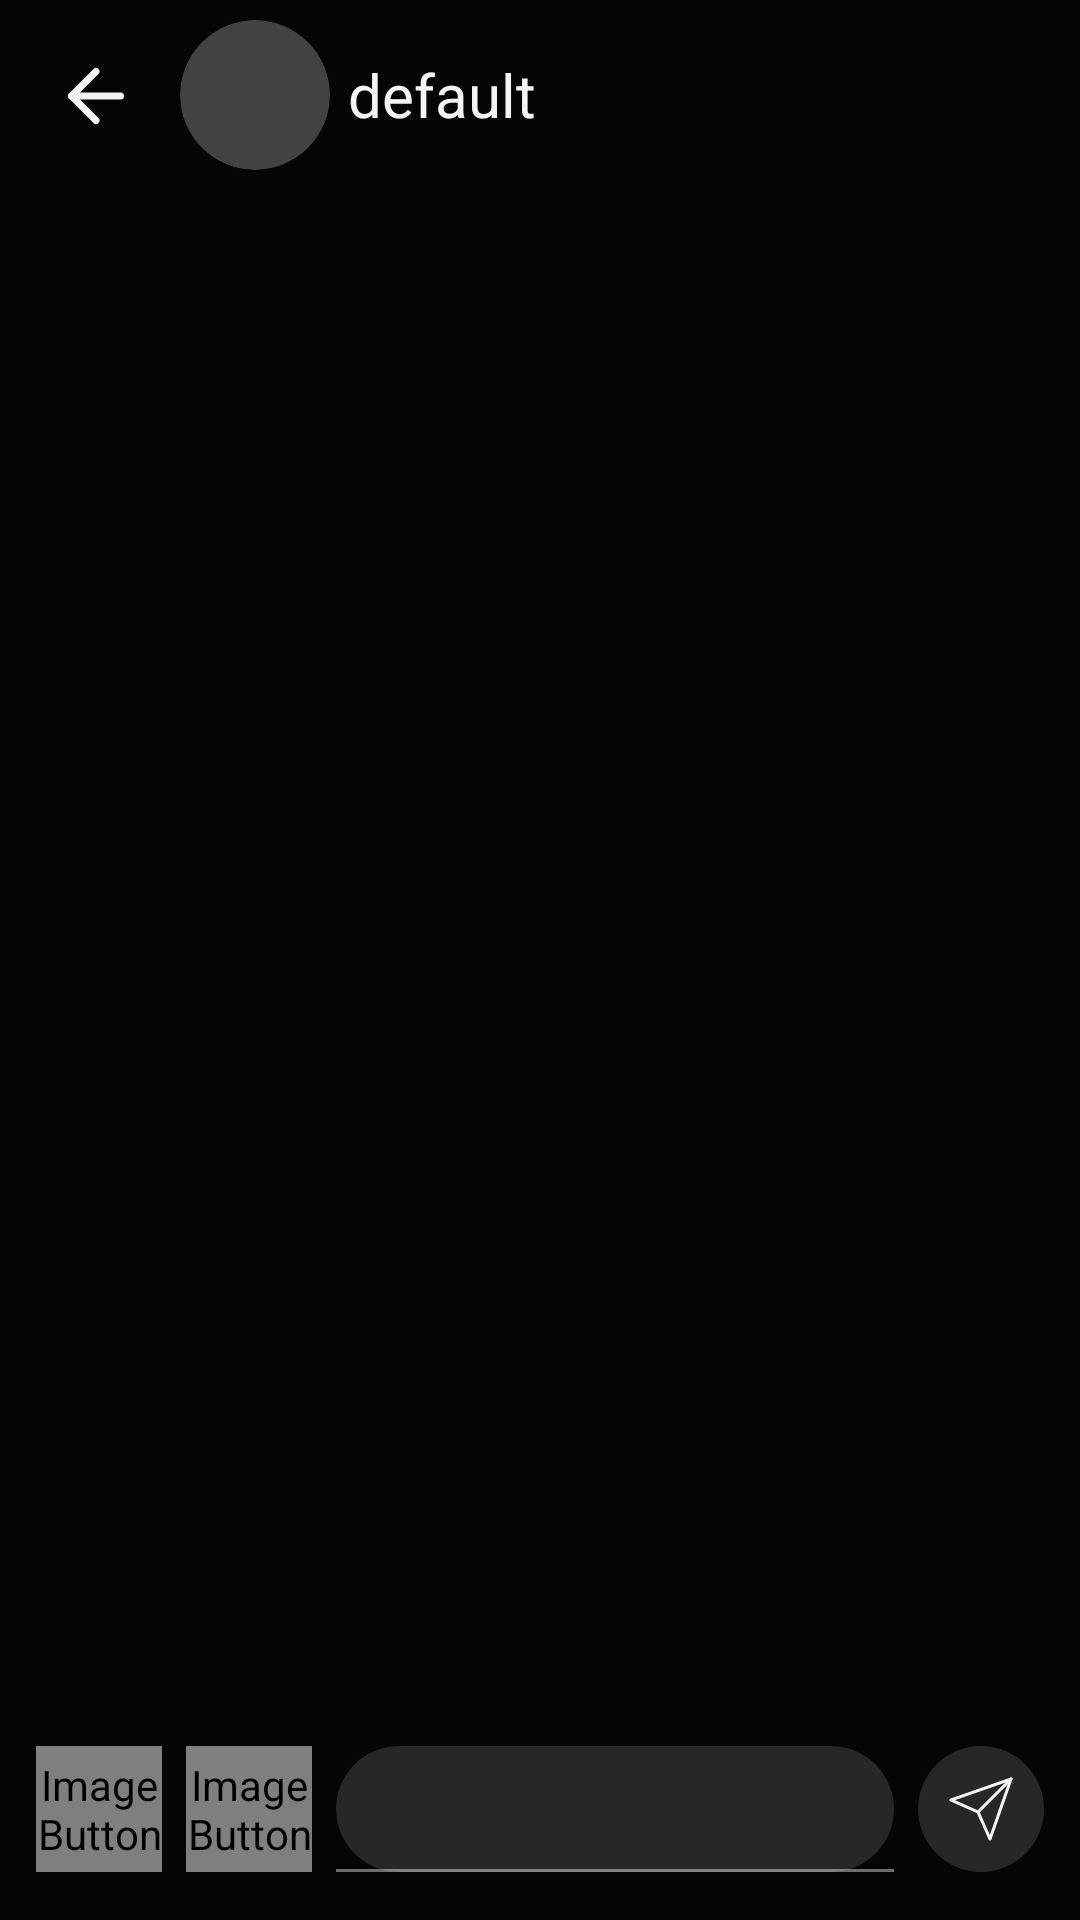

Named icons in this screenshot (1080*1920) and their bounding boxes, {"left": x1, "top": y1, "right": x2, "bottom": y2}:
Go Back: {"left": 68, "top": 67, "right": 124, "bottom": 125}
send: {"left": 918, "top": 1746, "right": 1044, "bottom": 1872}
